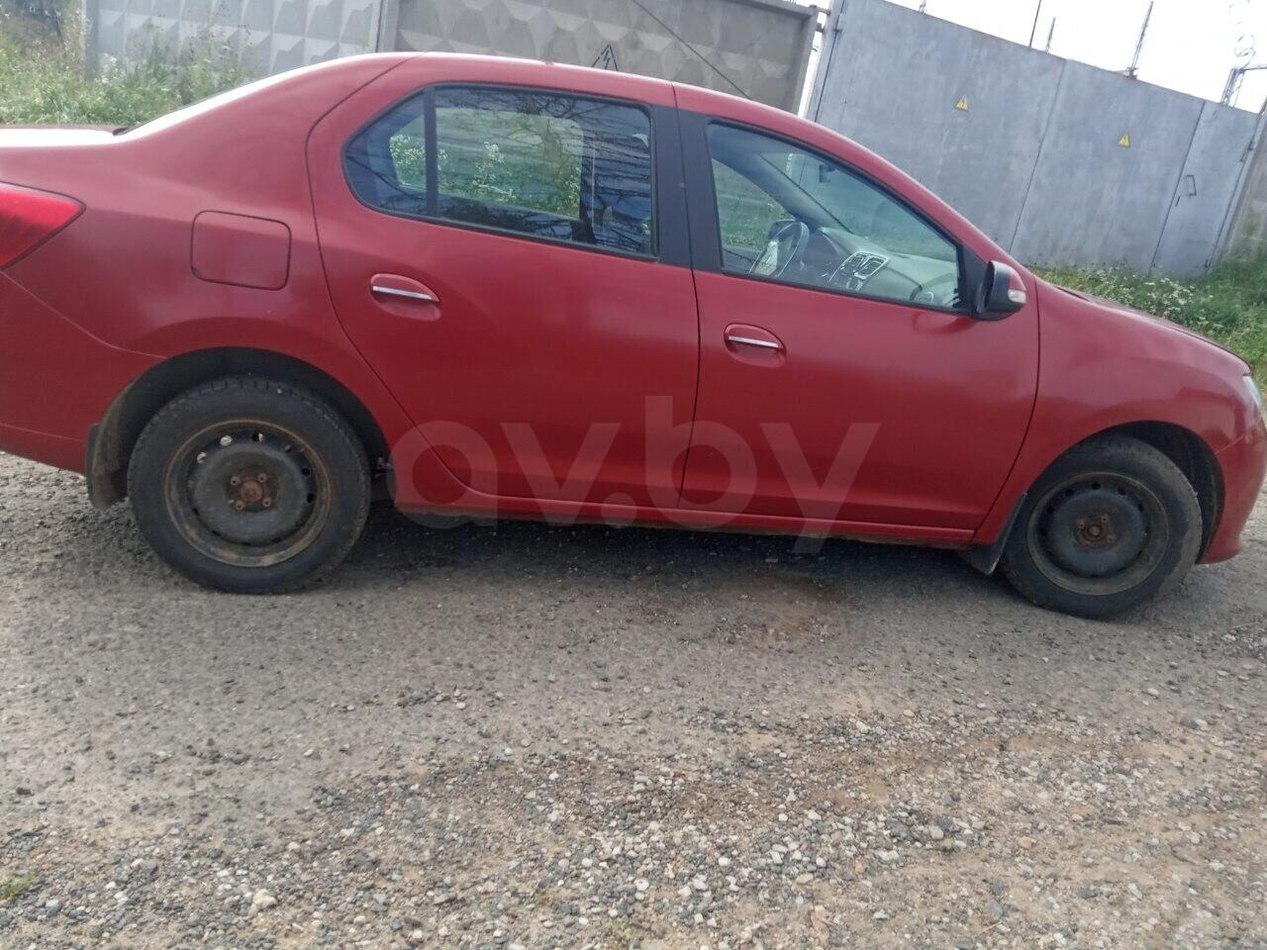Logan_2013-2018: (0, 43, 1267, 636)
